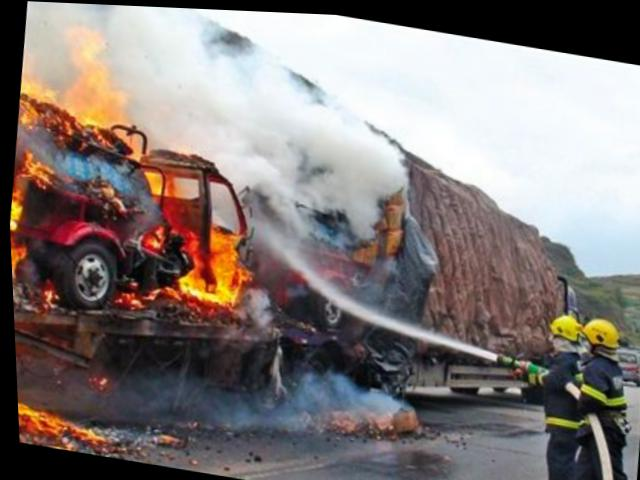fire: (0, 11, 279, 342), (14, 394, 111, 454)
